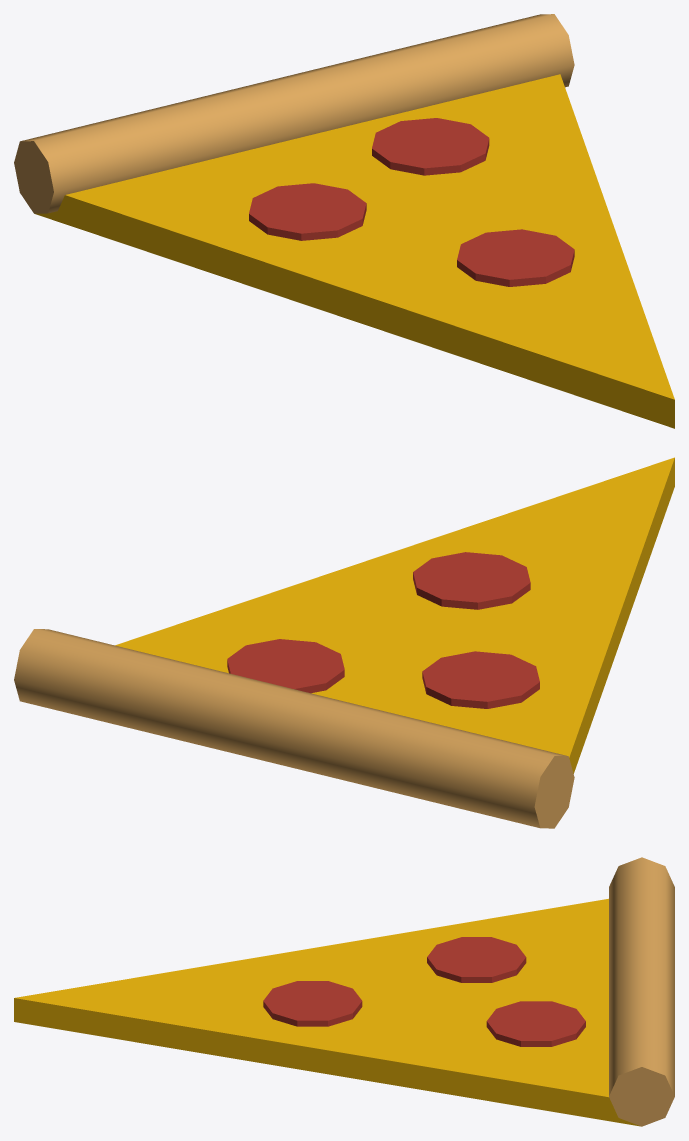
Rendered from pizza_slice.glb.
3 views of the same model, one above another, from view 1: azimuth 30°, elevation 25°; view 2: azimuth 150°, elevation 25°; view 3: azimuth 270°, elevation 25° (orthographic). The views are drawn at different scales.
Parts seen in each view (by area): view 1: Pizza_Base, Pizza_Crust, Pizza_Pepperoni1, Pizza_Pepperoni2, Pizza_Pepperoni3; view 2: Pizza_Base, Pizza_Crust, Pizza_Pepperoni2, Pizza_Pepperoni1, Pizza_Pepperoni3; view 3: Pizza_Base, Pizza_Crust, Pizza_Pepperoni1, Pizza_Pepperoni2, Pizza_Pepperoni3.
Boxes of the visible parts, x1,y1,x2,y2 form: Pizza_Base: (34, 74, 674, 428); Pizza_Crust: (14, 14, 574, 213); Pizza_Pepperoni1: (457, 229, 574, 286); Pizza_Pepperoni2: (249, 183, 366, 240); Pizza_Pepperoni3: (372, 118, 489, 175); Pizza_Base: (115, 457, 674, 773); Pizza_Crust: (14, 629, 574, 828); Pizza_Pepperoni2: (422, 651, 539, 708); Pizza_Pepperoni1: (413, 552, 530, 609); Pizza_Pepperoni3: (227, 639, 344, 693); Pizza_Base: (14, 898, 640, 1126); Pizza_Crust: (609, 857, 674, 1126); Pizza_Pepperoni1: (263, 981, 362, 1026); Pizza_Pepperoni2: (427, 937, 526, 982); Pizza_Pepperoni3: (486, 1001, 585, 1046).
Bounding box in the file's own units: 0.15 × 0.02 × 0.2.
